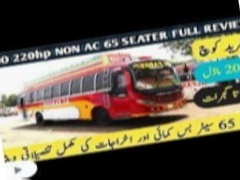bus: (15, 47, 186, 140)
